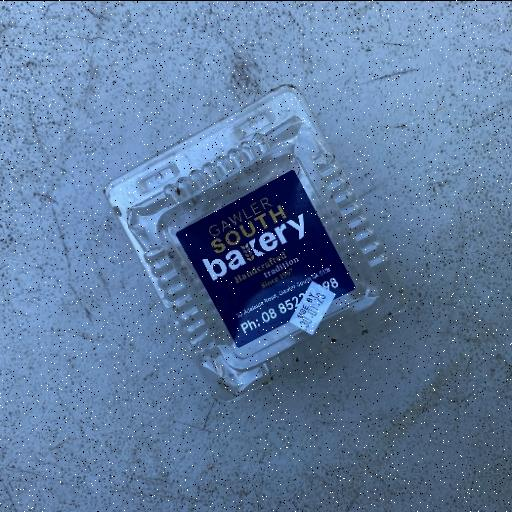Plastic: (102, 84, 406, 406)
